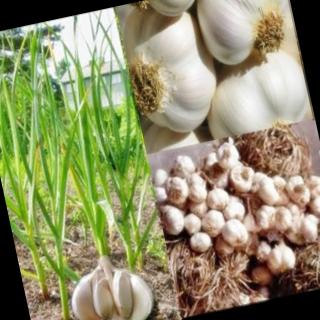Bawang Putih: (116, 1, 314, 154), (59, 246, 160, 320), (217, 213, 251, 255)
